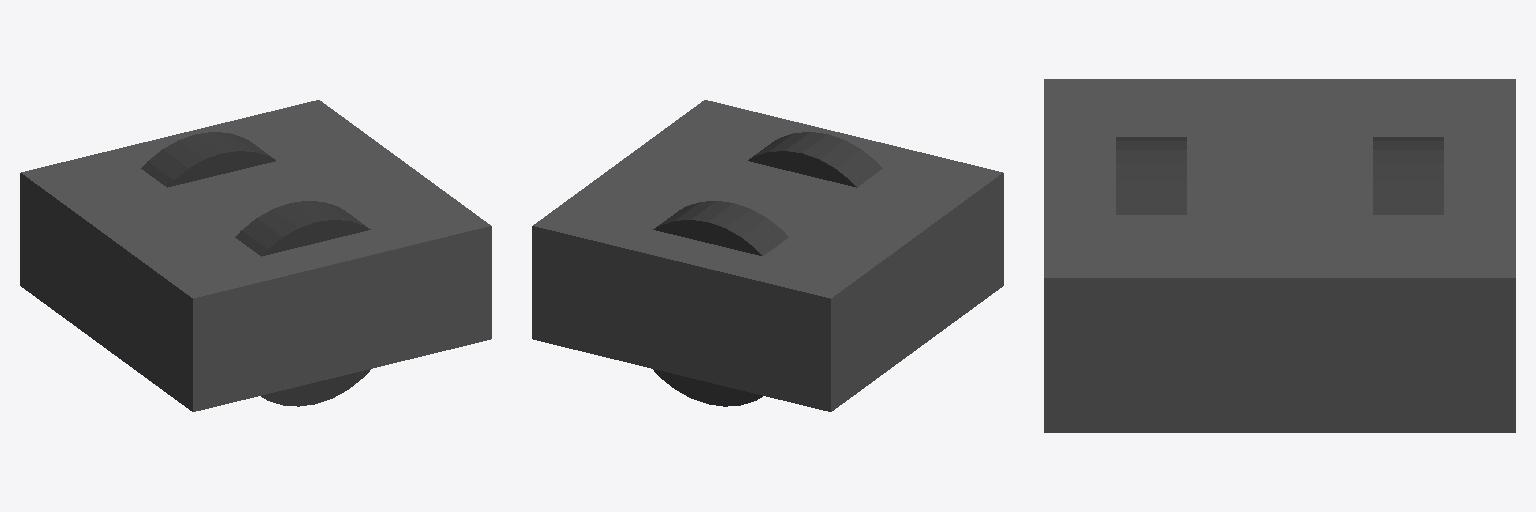
robot.urdf — robot_esp:
<?xml version="1.0" ?>
<robot name="robot_esp" xmlns:xacro="http://ros.org/wiki/xacro">
  <!-- <xacro:include filename="$(find turtlebot3_description)/urdf/common_properties.urdf"/>

  <xacro:property name="r200_cam_rgb_px" value="0.005"/>
  <xacro:property name="r200_cam_rgb_py" value="0.018"/>
  <xacro:property name="r200_cam_rgb_pz" value="0.013"/>
  <xacro:property name="r200_cam_agvdepth_offset" value="0.01"/> -->

  <!-- Init colour -->
  <material name="black">
      <color rgba="0.0 0.0 0.0 1.0"/>
  </material>

  <material name="dark">
    <color rgba="0.3 0.3 0.3 1.0"/>
  </material>

  <material name="light_black">
    <color rgba="0.4 0.4 0.4 1.0"/>
  </material>

  <material name="blue">
    <color rgba="0.0 0.0 0.8 1.0"/>
  </material>

  <material name="green">
    <color rgba="0.0 0.8 0.0 1.0"/>
  </material>

  <material name="grey">
    <color rgba="0.5 0.5 0.5 1.0"/>
  </material>

  <material name="orange">
    <color rgba="1.0 0.4235 0.0392 1.0"/>
  </material>

  <material name="brown">
    <color rgba="0.8706 0.8118 0.7647 1.0"/>
  </material>

  <material name="red">
    <color rgba="0.8 0.0 0.0 1.0"/>
  </material>

  <material name="white">
    <color rgba="1.0 1.0 1.0 1.0"/>
  </material>

  <link name="base_footprint"/>

  <joint name="base_joint" type="fixed">
    <parent link="base_footprint"/>
    <child link="base_link" />
    <origin xyz="0 0 0.010" rpy="0 0 0"/>
  </joint>

  <link name="base_link">
    <visual>
      <!-- Hoverboard base: 0.33 x 0.33 m square, drive axle at the centre
           (same shape as the Nav2 footprint in robot_navigation/param/hoverboard.yaml).
           Was the TurtleBot3 waffle mesh. -->
      <origin xyz="0 0 0.10" rpy="0 0 0"/>
      <geometry>
        <box size="0.33 0.33 0.12"/>
      </geometry>
      <material name="light_black"/>
    </visual>

    <collision>
      <origin xyz="0 0 0.10" rpy="0 0 0"/>
      <geometry>
        <box size="0.33 0.33 0.12"/>
      </geometry>
    </collision>

    <inertial>
      <origin xyz="0 0 0" rpy="0 0 0"/>
      <mass value="1.3729096e+00"/>
      <inertia ixx="8.7002718e-03" ixy="-4.7576583e-05" ixz="1.1160499e-04"
               iyy="8.6195418e-03" iyz="-3.5422299e-06"
               izz="1.4612727e-02" />
    </inertial>
  </link>

  <joint name="wheel_left_joint" type="continuous">
    <parent link="base_link"/>
    <child link="wheel_left_link"/>
    <origin xyz="0.0 0.09 0.086" rpy="-1.57 0 0"/>  <!-- y = wheel_separation_m/2, z puts the axle at wheel_radius above the ground -->
    <axis xyz="0 0 1"/>
  </joint>

  <link name="wheel_left_link">
    <visual>
      <origin xyz="0 0 0" rpy="0 0 0"/>
      <geometry>
        <cylinder length="0.05" radius="0.09615"/>
      </geometry>
      <material name="dark"/>
    </visual>

    <collision>
      <origin xyz="0 0 0" rpy="0 0 0"/>
      <geometry>
        <cylinder length="0.05" radius="0.09615"/>
      </geometry>
    </collision>

    <inertial>
      <origin xyz="0 0 0" />
      <mass value="2.8498940e-02" />
      <inertia ixx="1.1175580e-05" ixy="-4.2369783e-11" ixz="-5.9381719e-09"
               iyy="1.1192413e-05" iyz="-1.4400107e-11"
               izz="2.0712558e-05" />
      </inertial>
  </link>

  <joint name="wheel_right_joint" type="continuous">
    <parent link="base_link"/>
    <child link="wheel_right_link"/>
    <origin xyz="0.0 -0.09 0.086" rpy="-1.57 0 0"/>
    <axis xyz="0 0 1"/>
  </joint>

  <link name="wheel_right_link">
    <visual>
      <origin xyz="0 0 0" rpy="0 0 0"/>
      <geometry>
        <cylinder length="0.05" radius="0.09615"/>
      </geometry>
      <material name="dark"/>
    </visual>

    <collision>
      <origin xyz="0 0 0" rpy="0 0 0"/>
      <geometry>
        <cylinder length="0.05" radius="0.09615"/>
      </geometry>
    </collision>

    <inertial>
      <origin xyz="0 0 0" />
      <mass value="2.8498940e-02" />
      <inertia ixx="1.1175580e-05" ixy="-4.2369783e-11" ixz="-5.9381719e-09"
               iyy="1.1192413e-05" iyz="-1.4400107e-11"
               izz="2.0712558e-05" />
      </inertial>
  </link>

  <joint name="caster_back_right_joint" type="fixed">
    <parent link="base_link"/>
    <child link="caster_back_right_link"/>
    <origin xyz="-0.06 0.0 -0.004" rpy="-1.57 0 0"/>
  </joint>

  <link name="caster_back_right_link">
    <collision>
      <origin xyz="0 0.001 0" rpy="0 0 0"/>
      <geometry>
        <box size="0.030 0.009 0.020"/>
      </geometry>
    </collision>

    <inertial>
      <origin xyz="0 0 0" />
      <mass value="0.005" />
      <inertia ixx="0.001" ixy="0.0" ixz="0.0"
               iyy="0.001" iyz="0.0"
               izz="0.001" />
    </inertial>
  </link>

  <joint name="caster_back_left_joint" type="fixed">
    <parent link="base_link"/>
    <child link="caster_back_left_link"/>
    <origin xyz="-0.06 0.0 -0.004" rpy="-1.57 0 0"/>
  </joint>

  <link name="caster_back_left_link">
    <collision>
      <origin xyz="0 0.001 0" rpy="0 0 0"/>
      <geometry>
        <box size="0.030 0.009 0.020"/>
      </geometry>
    </collision>

    <inertial>
      <origin xyz="0 0 0" />
      <mass value="0.005" />
      <inertia ixx="0.001" ixy="0.0" ixz="0.0"
               iyy="0.001" iyz="0.0"
               izz="0.001" />
    </inertial>
  </link>

  <joint name="imu_joint" type="fixed">
    <parent link="base_link"/>
    <child link="imu_link"/>
    <origin xyz="0.0 0 0.068" rpy="0 0 0"/>
  </joint>

  <link name="imu_link"/>

  <joint name="scan_joint" type="fixed">
    <parent link="base_link"/>
    <child link="base_scan"/>
    <origin xyz="0.0 0 0.15" rpy="0 0 0"/>
  </joint>

  <link name="base_scan">
    <visual>
      <origin xyz="0 0 0" rpy="0 0 0"/>
      <geometry>
        <mesh filename="package://turtlebot3_description/meshes/sensors/lds.stl" scale="0.001 0.001 0.001"/>
      </geometry>
      <material name="dark"/>
    </visual>

    <collision>
      <origin xyz="0.015 0 -0.0065" rpy="0 0 0"/>
      <geometry>
        <cylinder length="0.0315" radius="0.055"/>
      </geometry>
    </collision>

    <inertial>
      <mass value="0.114" />
      <origin xyz="0 0 0" />
      <inertia ixx="0.001" ixy="0.0" ixz="0.0"
               iyy="0.001" iyz="0.0"
               izz="0.001" />
    </inertial>
  </link>

  <joint name="camera_joint" type="fixed">
    <origin xyz="0.064 -0.065 0.094" rpy="0 0 0"/>
    <parent link="base_link"/>
    <child link="camera_link"/>
  </joint>

  <link name="camera_link">
    <visual>
     <origin xyz="0 0 0" rpy="1.57 0 1.57"/>
      <geometry>
       <mesh filename="package://turtlebot3_description/meshes/sensors/r200.dae" />
      </geometry>
    </visual>
    <collision>
      <origin xyz="0.003 0.065 0.007" rpy="0 0 0"/>
      <geometry>
        <box size="0.012 0.132 0.020"/>
      </geometry>
    </collision>

    <!-- This inertial field needs doesn't contain reliable data!! -->
<!--   <inertial>
      <mass value="0.564" />
      <origin xyz="0 0 0" />
      <inertia ixx="0.003881243" ixy="0.0" ixz="0.0"
               iyy="0.000498940" iyz="0.0"
               izz="0.003879257" />
    </inertial>-->
  </link>

  <joint name="camera_rgb_joint" type="fixed">
    <origin xyz="0.005 0.018 0.013" rpy="0 0 0"/>
    <!-- <origin xyz="${r200_cam_rgb_px} ${r200_cam_rgb_py} ${r200_cam_rgb_pz}" rpy="0 0 0"/> -->
    <parent link="camera_link"/>
    <child link="camera_rgb_frame"/>
  </joint>
  <link name="camera_rgb_frame"/>

  <joint name="camera_rgb_optical_joint" type="fixed">
    <origin xyz="0 0 0" rpy="-1.57 0 -1.57"/>
    <parent link="camera_rgb_frame"/>
    <child link="camera_rgb_optical_frame"/>
  </joint>
  <link name="camera_rgb_optical_frame"/>

  <joint name="camera_depth_joint" type="fixed">
    <origin xyz="0.005 0.028 0.013" rpy="0 0 0"/>
    <!-- <origin xyz="${r200_cam_rgb_px} ${r200_cam_rgb_py + r200_cam_depth_offset} ${r200_cam_rgb_pz}" rpy="0 0 0"/> -->
    <parent link="camera_link"/>
    <child link="camera_depth_frame"/>
  </joint>
  <link name="camera_depth_frame"/>

  <joint name="camera_depth_optical_joint" type="fixed">
    <origin xyz="0 0 0" rpy="-1.57 0 -1.57"/>
    <parent link="camera_depth_frame"/>
    <child link="camera_depth_optical_frame"/>
  </joint>
  <link name="camera_depth_optical_frame"/>

</robot>

--- Facts derived from the render (not from the file) ---
3 views of the same robot in one strip: view 1: azimuth 30°, elevation 25°; view 2: azimuth 150°, elevation 25°; view 3: azimuth 270°, elevation 25° (orthographic).
Robot: robot_esp — 13 links, 12 joints (2 continuous, 10 fixed); root link base_footprint; default pose: all joints at 0.
Visible links, largest first — view 1: base_link, wheel_right_link, wheel_left_link; view 2: base_link, wheel_left_link, wheel_right_link; view 3: base_link, wheel_left_link, wheel_right_link.
Link boxes in pixels (left/top/right/bottom): base_link: left=20, top=100, right=491, bottom=411; wheel_right_link: left=235, top=201, right=370, bottom=406; wheel_left_link: left=141, top=132, right=275, bottom=187; base_link: left=532, top=100, right=1003, bottom=411; wheel_left_link: left=653, top=201, right=788, bottom=406; wheel_right_link: left=748, top=132, right=882, bottom=187; base_link: left=1044, top=79, right=1515, bottom=432; wheel_left_link: left=1373, top=137, right=1443, bottom=214; wheel_right_link: left=1116, top=137, right=1186, bottom=214.
Bounding box of the posed robot: 0.33 × 0.33 × 0.1923 m (x, y, z).
0 mesh visuals loaded from 2 distinct referenced files (none loaded); not drawn: 2 (reference not matched to a file when rendering).
